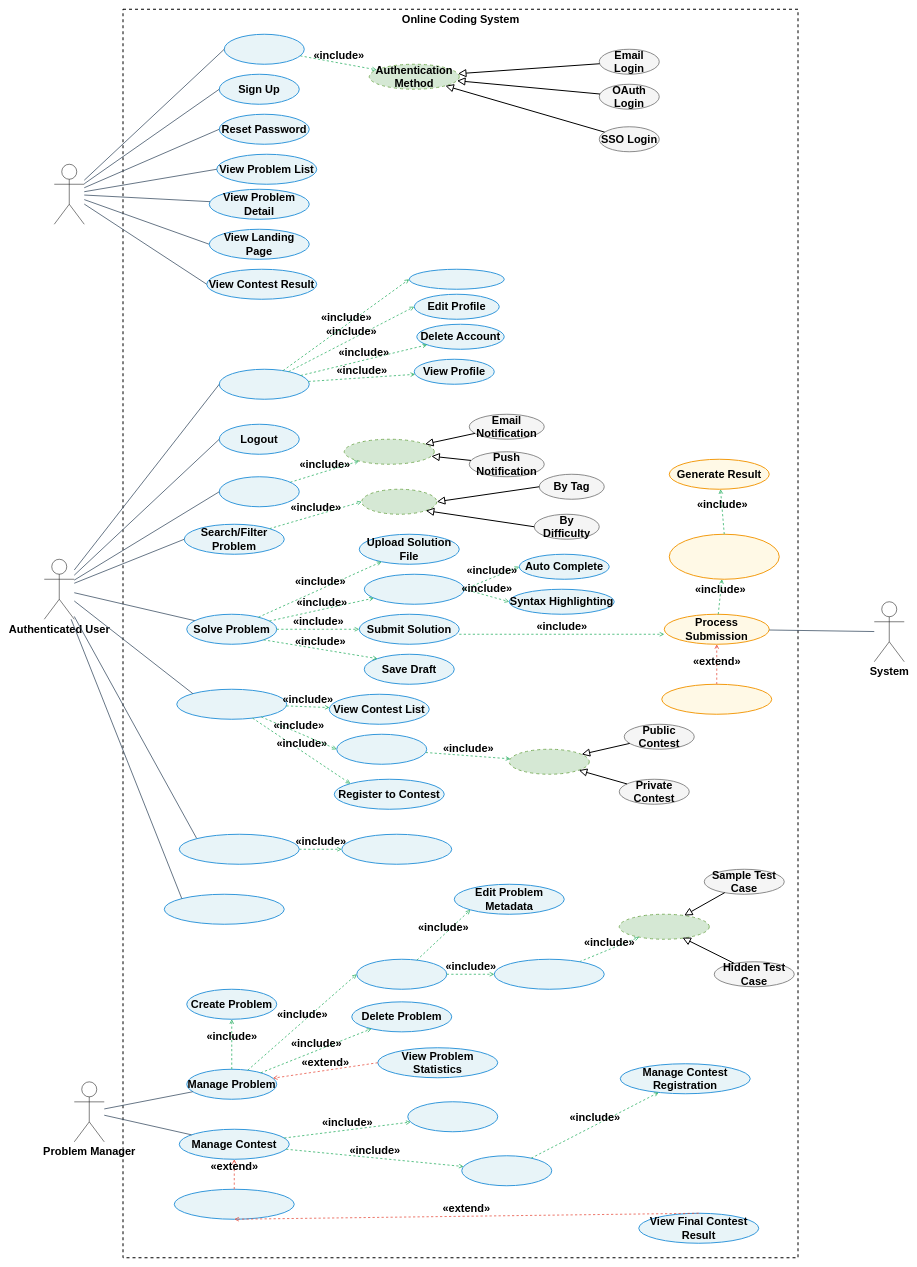
Image size: 917x1267. Some labels were removed from this diagram. The box of each missing label's shape, as (x1, y1, x2, y2) in pixels:
Change Password: (408, 268, 504, 290)
Compile, Run Code and Validate Output: (668, 534, 780, 580)
Contest Access Type: (508, 748, 590, 774)
Create Contest: (407, 1101, 498, 1132)
Detailed Test Case View: (341, 834, 452, 864)
Edit Contest: (461, 1155, 552, 1186)
Edit Problem: (356, 958, 447, 990)
Filter Type: (361, 488, 437, 514)
Guest User: (54, 164, 84, 224)
Join Contest: (336, 734, 427, 764)
Login: (224, 34, 304, 64)
Manage Profile: (218, 368, 310, 400)
Manage Test Cases: (494, 958, 604, 990)
Notification Channel: (344, 438, 434, 464)
Participate in Contest: (176, 688, 287, 720)
Save Submission Data: (661, 684, 772, 714)
Settings: (218, 476, 300, 507)
Test Case Type: (618, 914, 710, 940)
Use Code Editor: (364, 574, 464, 604)
View Contest Scoreboard: (174, 1188, 294, 1220)
View Submission History: (164, 894, 284, 924)
View Submission Result: (178, 834, 300, 864)
